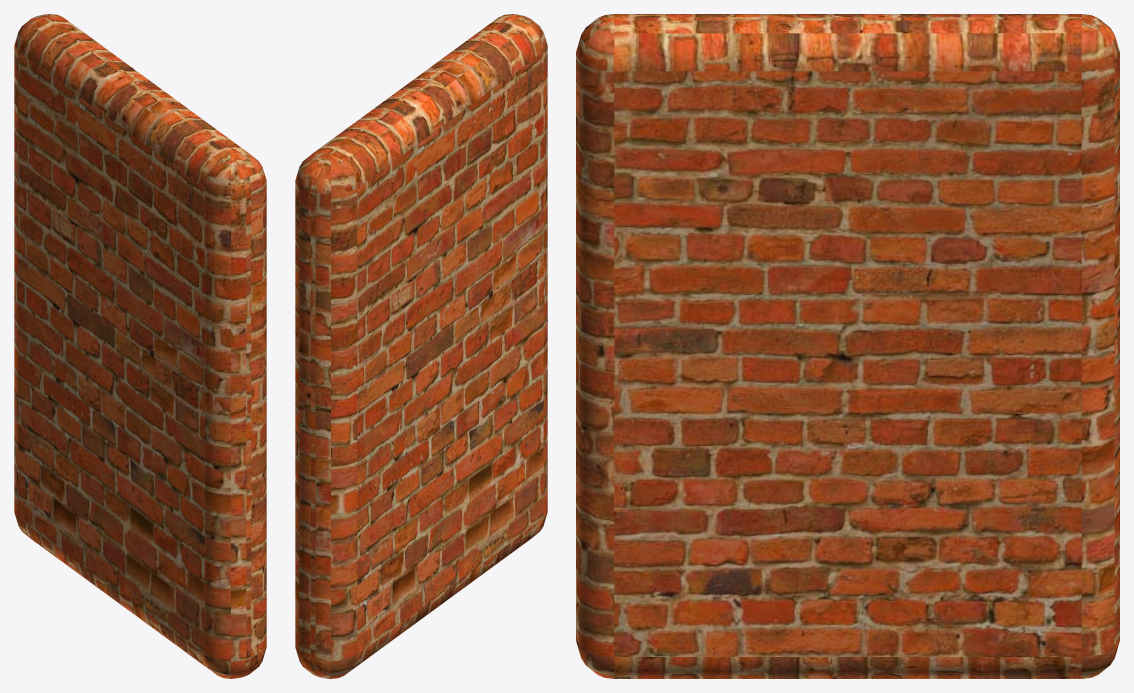
3 renders of one model, left to right at view 1: azimuth 30°, elevation 25°; view 2: azimuth 150°, elevation 25°; view 3: azimuth 270°, elevation 25°, orthographic. The views are drawn at different scales.
Parts seen in each view (by area): view 1: Chamfer_Box__150695_ChamferBox_0; view 2: Chamfer_Box__150695_ChamferBox_0; view 3: Chamfer_Box__150695_ChamferBox_0.
Part boxes in pixels (x1,y1,x2,y2): Chamfer_Box__150695_ChamferBox_0: (14, 14, 266, 678); Chamfer_Box__150695_ChamferBox_0: (295, 14, 547, 678); Chamfer_Box__150695_ChamferBox_0: (576, 14, 1119, 678).
Bounding box in the file's own units: 0.68 × 5.86 × 4.41.
